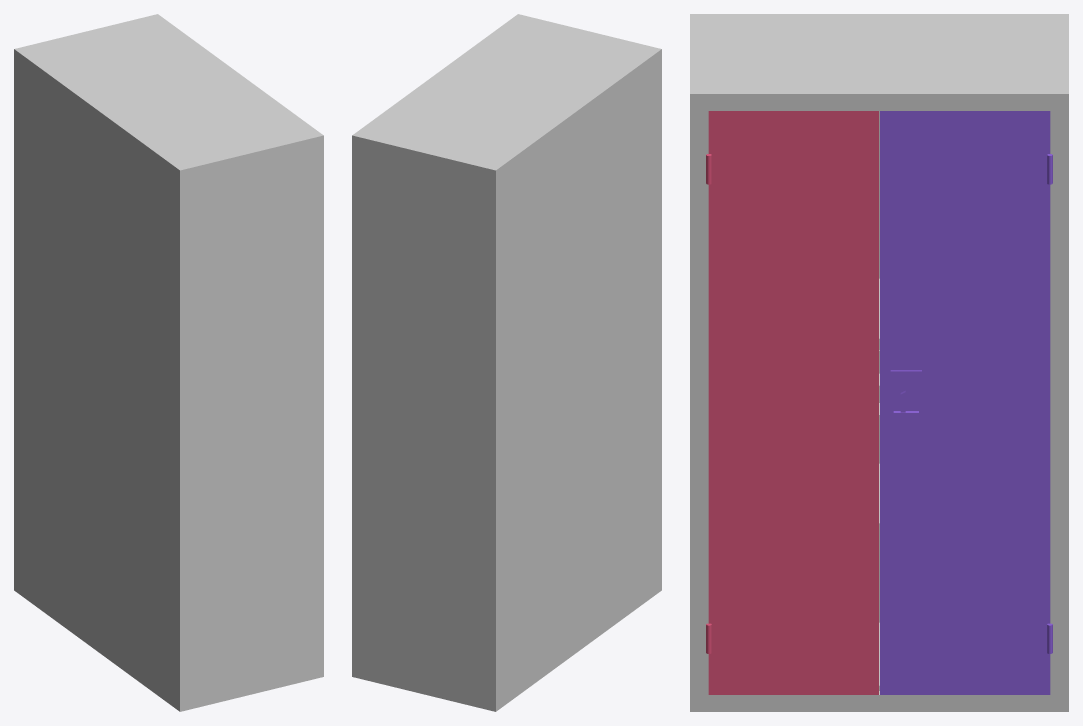
File: FBX_Cabinet.fbx
3 views of the same model, side by side, from view 1: azimuth 30°, elevation 25°; view 2: azimuth 150°, elevation 25°; view 3: azimuth 270°, elevation 25° (orthographic). The views are drawn at different scales.
Visible parts, largest first — view 1: SM_Cabinet; view 2: SM_Cabinet; view 3: SM_Cabinet_Door_L, SM_Cabinet_Door_R, SM_Cabinet.
Boxes of the visible parts, x1=… form: SM_Cabinet: x1=14, y1=14, x2=323, y2=711; SM_Cabinet: x1=352, y1=14, x2=661, y2=711; SM_Cabinet_Door_L: x1=706, y1=111, x2=878, y2=694; SM_Cabinet_Door_R: x1=880, y1=111, x2=1052, y2=694; SM_Cabinet: x1=690, y1=14, x2=1068, y2=711.
Size of the model in its own units: 0.5131 by 1.8 by 1.
